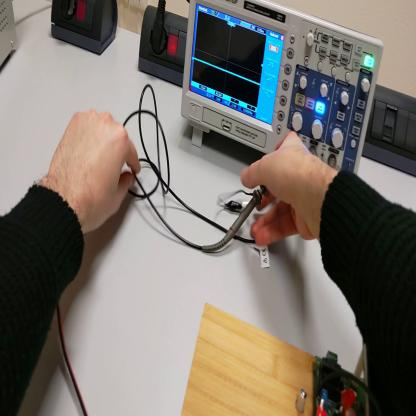hand: (49, 108, 141, 236), (242, 132, 328, 249)
low voltage board: (314, 334, 367, 415)
oscilloscope: (181, 1, 385, 181)
oscilloscope probe tip: (210, 186, 268, 252)
power supply: (1, 1, 20, 71)
socket: (139, 4, 188, 88), (50, 2, 119, 58)
working area: (182, 302, 319, 414)
